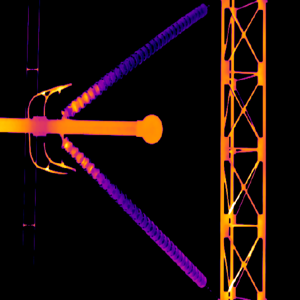insulator: (60, 136, 207, 288), (62, 1, 209, 119)
